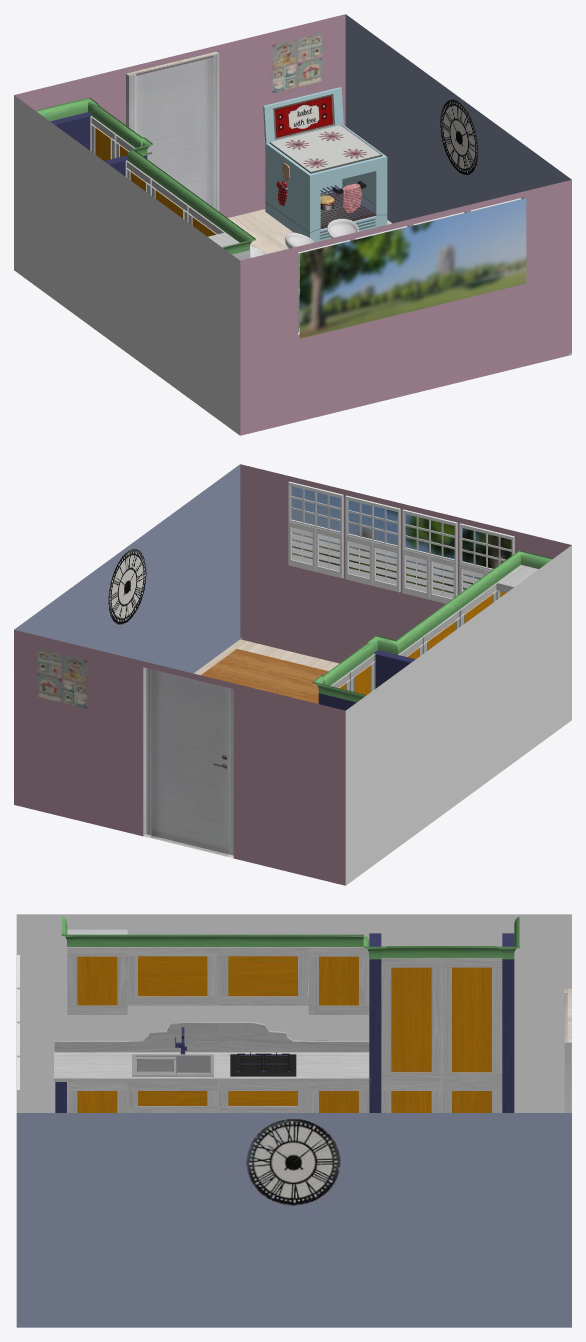
The model's file is final_kitchen.obj.
The picture shows the model from 3 angles, top to bottom: view 1: azimuth 30°, elevation 25°; view 2: azimuth 150°, elevation 25°; view 3: azimuth 270°, elevation 25°; orthographic projection. The views are drawn at different scales.
Parts seen in each view (by area): view 1: group1_pCube1, polySurface33_group1, polySurface91, group1_low_poly; view 2: group1_pCube1, polySurface33_group1, group1_low_poly, group1_table; view 3: group1_pCube1, group1_low_poly.
Boxes of the visible parts, <box> form: group1_pCube1: <box>14,14,571,435</box>; polySurface33_group1: <box>298,197,526,338</box>; polySurface91: <box>263,87,387,242</box>; group1_low_poly: <box>36,97,255,260</box>; group1_pCube1: <box>14,464,571,885</box>; polySurface33_group1: <box>288,481,514,603</box>; group1_low_poly: <box>312,550,552,710</box>; group1_table: <box>201,649,328,703</box>; group1_pCube1: <box>16,914,571,1327</box>; group1_low_poly: <box>54,916,519,1112</box>.
Size of the model in its own units: 18.46 by 9.32 by 21.92.
6 materials, 6 textured.
